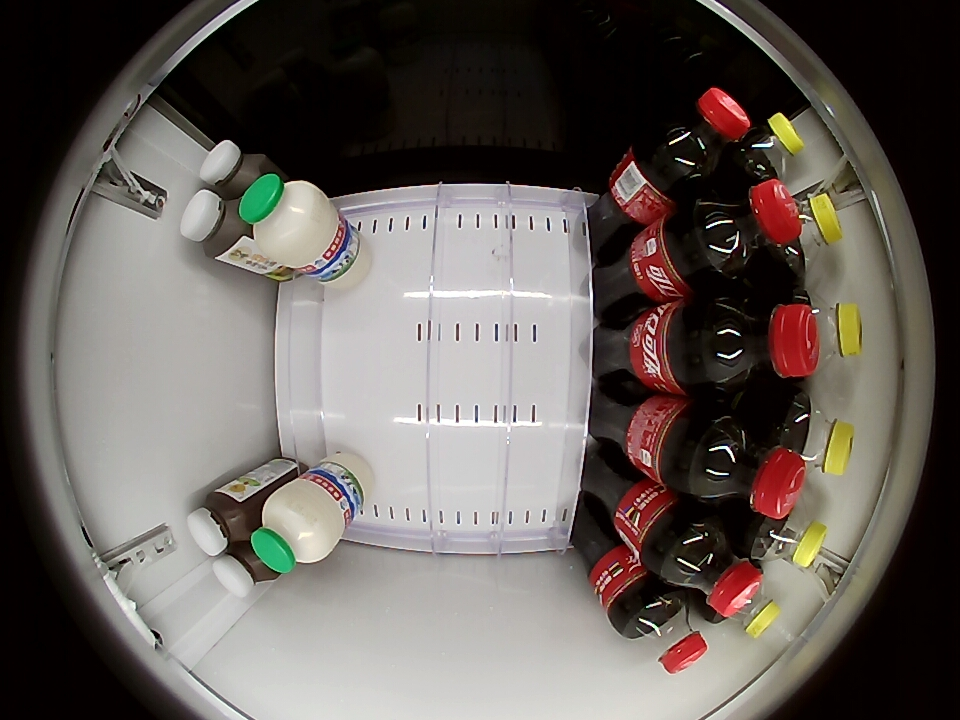baishikele: (774, 393, 855, 477), (776, 192, 843, 278), (749, 500, 827, 569), (736, 112, 803, 183), (796, 291, 863, 360), (721, 583, 781, 639)
kele-b: (692, 414, 805, 518), (707, 292, 820, 389), (698, 180, 801, 279), (662, 517, 762, 617), (649, 88, 748, 184), (624, 590, 709, 674)
liziyuan: (240, 173, 339, 270), (252, 476, 347, 573)
youyanggudong: (180, 189, 247, 262), (187, 489, 254, 556), (199, 140, 271, 198), (212, 542, 279, 596)
